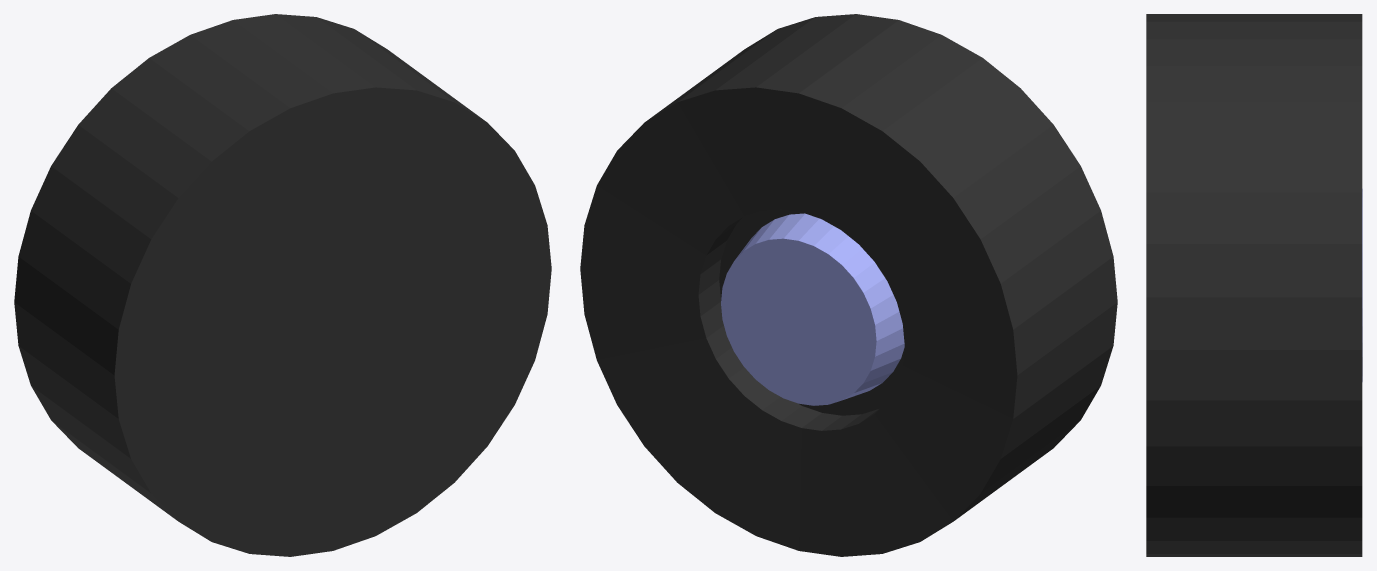
File: Tire.fbx
3 views of the same model, side by side, from view 1: azimuth 30°, elevation 25°; view 2: azimuth 150°, elevation 25°; view 3: azimuth 270°, elevation 25° (orthographic). The views are drawn at different scales.
Parts seen in each view (by area): view 1: Wheels Front.001; view 2: Wheels Front.001; view 3: Wheels Front.001.
Part boxes in pixels (left/top/right/bottom): Wheels Front.001: left=14, top=14, right=551, bottom=556; Wheels Front.001: left=580, top=14, right=1117, bottom=556; Wheels Front.001: left=1146, top=14, right=1362, bottom=556.
Bounding box in the file's own units: 103 × 103 × 41.12.
